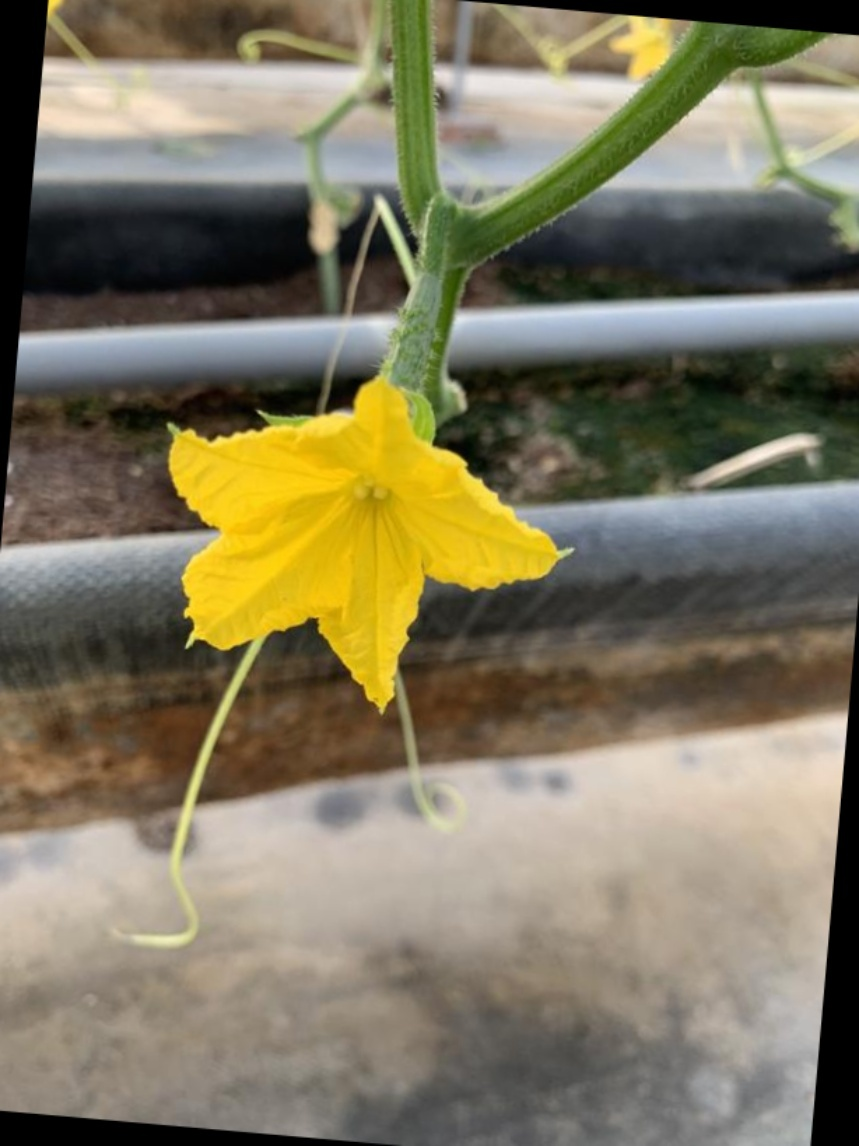flowering: (140, 244, 601, 730)
